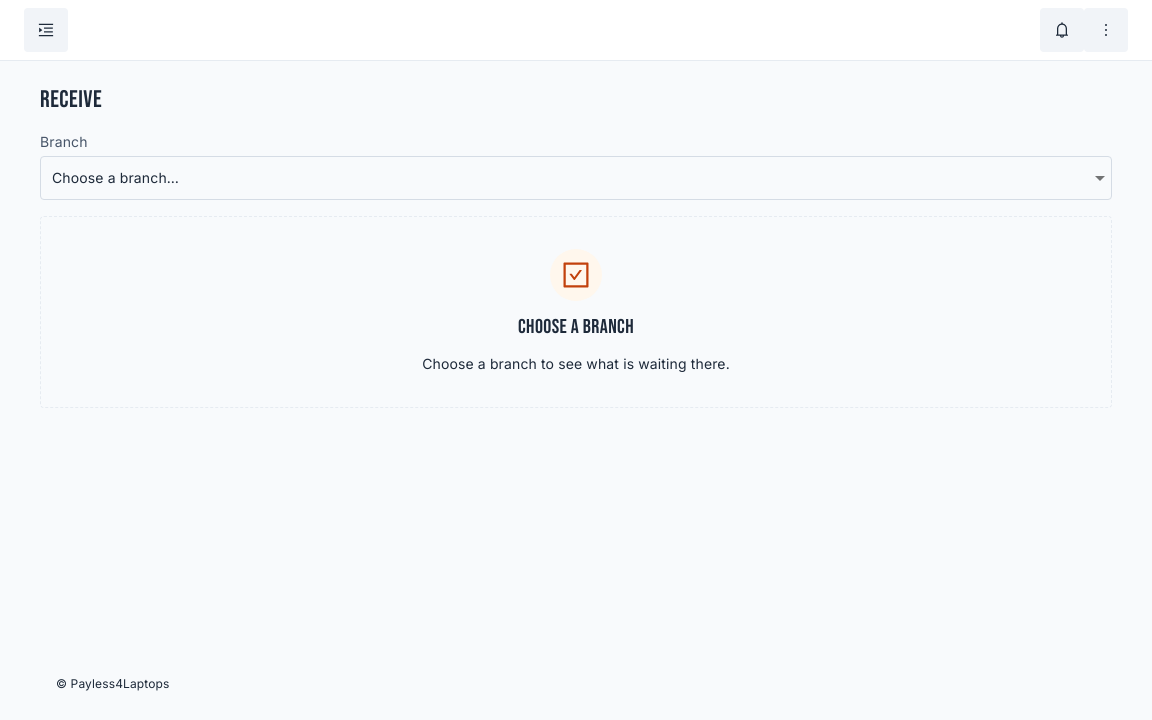
Test case: waiting at a branch (F5.3, F5.4) › the Super Admin has no working branch, so is asked for one; the API gets that branch_id
The image size is (1152, 720).
expect the text "Choose a branch to see what is waiting there." is shown: met, box [422,353,730,375]
Select "Kumasi Branch" in the dropdown labelled "Branch". click: (576, 178)
box: [40,156,1112,200]
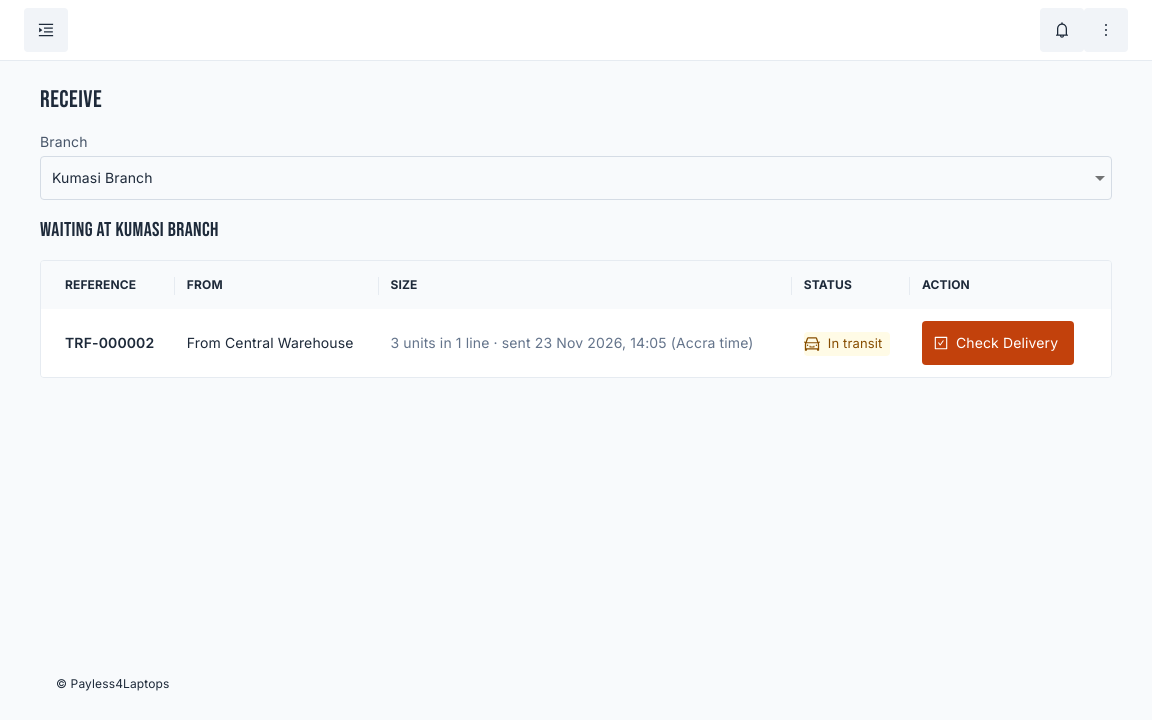
expect the heading "Waiting at Kumasi Branch" is shown: met, box [40,218,219,242]
expect the text "TRF-000002" is shown: met, box [65,334,154,351]
